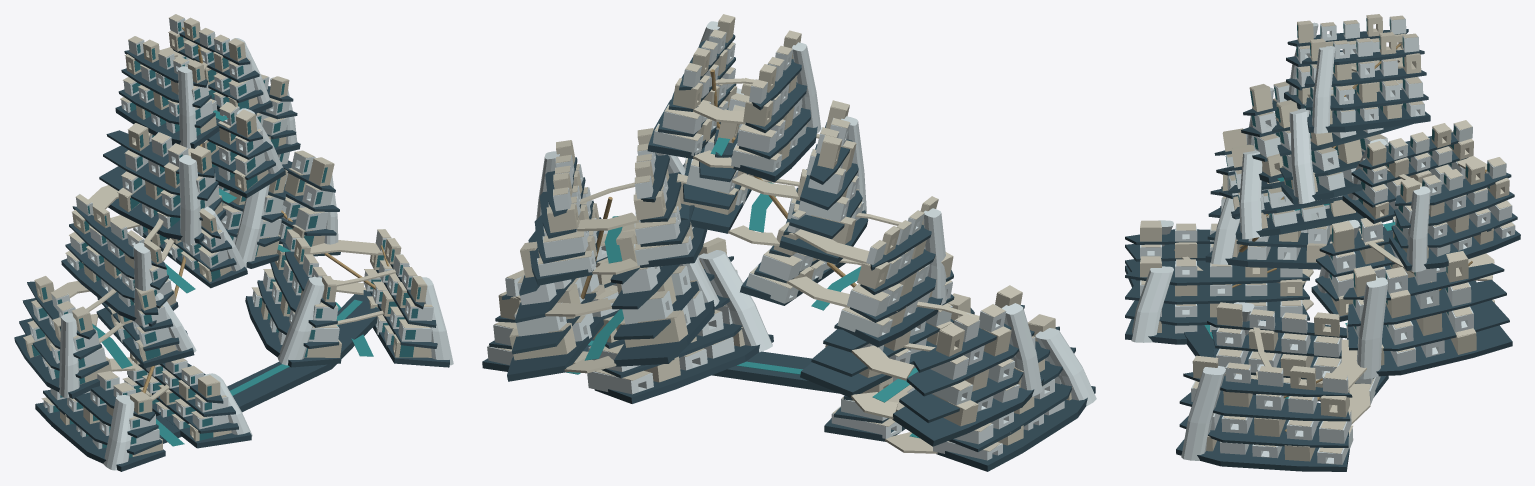
3 renders of one model, left to right at view 1: azimuth 30°, elevation 25°; view 2: azimuth 150°, elevation 25°; view 3: azimuth 270°, elevation 25°, orthographic. The views are drawn at different scales.
Parts seen in each view (by area): view 1: A_SHARED_CIVIC_FLOOR, A_EAST_DELTA_continuous_living_buttress, A_HIGH_CONTINENT_continuous_living_buttress, A_ESTUARY_city_ground_0_-1, A_ESTUARY_continuous_living_buttress, A_REAR_CONFLUENCE_continuous_living_buttress, A_ASCENT_continuous_living_buttress, A_EAST_DELTA_city_ground_0_-1, A_ZENITH_continuous_living_buttress, A_ESTUARY_city_ground_1_-1, A_HIGH_CONTINENT_city_ground_2_-1, A_MIDDLE_CIVILIZATION_city_ground_0_-1 (+39 smaller); view 2: A_EAST_DELTA_continuous_living_buttress, A_ASCENT_city_ground_0_-1, A_ESTUARY_city_ground_0_-1, A_EAST_DELTA_city_ground_0_-1, A_SHARED_CIVIC_FLOOR, A_REAR_CONFLUENCE_city_ground_0_-1, A_ESTUARY_continuous_living_buttress, A_ASCENT_continuous_living_buttress, A_ASCENT_city_ground_1_-1, A_REAR_CONFLUENCE_city_ground_0_1, A_ASCENT_city_ground_0_1, A_ASCENT_city_ground_2_-1 (+59 smaller); view 3: A_REAR_CONFLUENCE_continuous_living_buttress.001, A_EAST_DELTA_continuous_living_buttress.001, A_REAR_CONFLUENCE_city_ground_0_1, A_EAST_DELTA_city_ground_0_1, A_REAR_CONFLUENCE_city_ground_1_1, A_HIGH_CONTINENT_continuous_living_buttress.001, A_ESTUARY_continuous_living_buttress.001, A_REAR_CONFLUENCE_city_ground_2_1, A_ESTUARY_city_ground_2_1, A_MIDDLE_CIVILIZATION_continuous_living_buttress.001, A_EAST_DELTA_city_ground_1_1, A_EAST_DELTA_city_ground_2_1 (+62 smaller).
Boxes of the visible parts, x1,y1,x2,y2 form: A_SHARED_CIVIC_FLOOR: (156, 290, 379, 443); A_EAST_DELTA_continuous_living_buttress: (277, 277, 324, 365); A_HIGH_CONTINENT_continuous_living_buttress: (179, 155, 201, 244); A_ESTUARY_city_ground_0_-1: (35, 402, 165, 471); A_ESTUARY_continuous_living_buttress: (103, 395, 134, 470); A_REAR_CONFLUENCE_continuous_living_buttress: (235, 184, 269, 266); A_ASCENT_continuous_living_buttress: (59, 313, 79, 397); A_EAST_DELTA_city_ground_0_-1: (245, 296, 341, 367); A_ZENITH_continuous_living_buttress: (177, 66, 196, 148); A_ESTUARY_city_ground_1_-1: (43, 390, 162, 454); A_HIGH_CONTINENT_city_ground_2_-1: (103, 145, 218, 200); A_MIDDLE_CIVILIZATION_city_ground_0_-1: (61, 258, 178, 326); A_EAST_DELTA_continuous_living_buttress: (699, 250, 772, 352); A_ASCENT_city_ground_0_-1: (892, 378, 1043, 446); A_ESTUARY_city_ground_0_-1: (936, 386, 1095, 471); A_EAST_DELTA_city_ground_0_-1: (594, 334, 773, 403); A_SHARED_CIVIC_FLOOR: (583, 339, 839, 393); A_REAR_CONFLUENCE_city_ground_0_-1: (614, 300, 714, 366); A_ESTUARY_continuous_living_buttress: (1035, 328, 1096, 406); A_ASCENT_continuous_living_buttress: (1002, 303, 1042, 396); A_ASCENT_city_ground_1_-1: (899, 368, 1023, 422); A_REAR_CONFLUENCE_city_ground_0_1: (507, 315, 604, 381); A_ASCENT_city_ground_0_1: (800, 341, 936, 398); A_ASCENT_city_ground_2_-1: (906, 330, 1034, 396); A_REAR_CONFLUENCE_continuous_living_buttress.001: (1356, 277, 1387, 379); A_EAST_DELTA_continuous_living_buttress.001: (1181, 366, 1225, 460); A_REAR_CONFLUENCE_city_ground_0_1: (1347, 325, 1512, 376); A_EAST_DELTA_city_ground_0_1: (1176, 439, 1349, 471); A_REAR_CONFLUENCE_city_ground_1_1: (1348, 300, 1509, 351); A_HIGH_CONTINENT_continuous_living_buttress.001: (1289, 108, 1315, 203); A_ESTUARY_continuous_living_buttress.001: (1131, 266, 1173, 342); A_REAR_CONFLUENCE_city_ground_2_1: (1347, 279, 1506, 326); A_ESTUARY_city_ground_2_1: (1125, 282, 1309, 304); A_MIDDLE_CIVILIZATION_continuous_living_buttress.001: (1239, 150, 1262, 239); A_EAST_DELTA_city_ground_1_1: (1179, 415, 1348, 447); A_EAST_DELTA_city_ground_2_1: (1179, 390, 1350, 421).
Bounding box in the file's own units: 5312 × 4076 × 4282.
